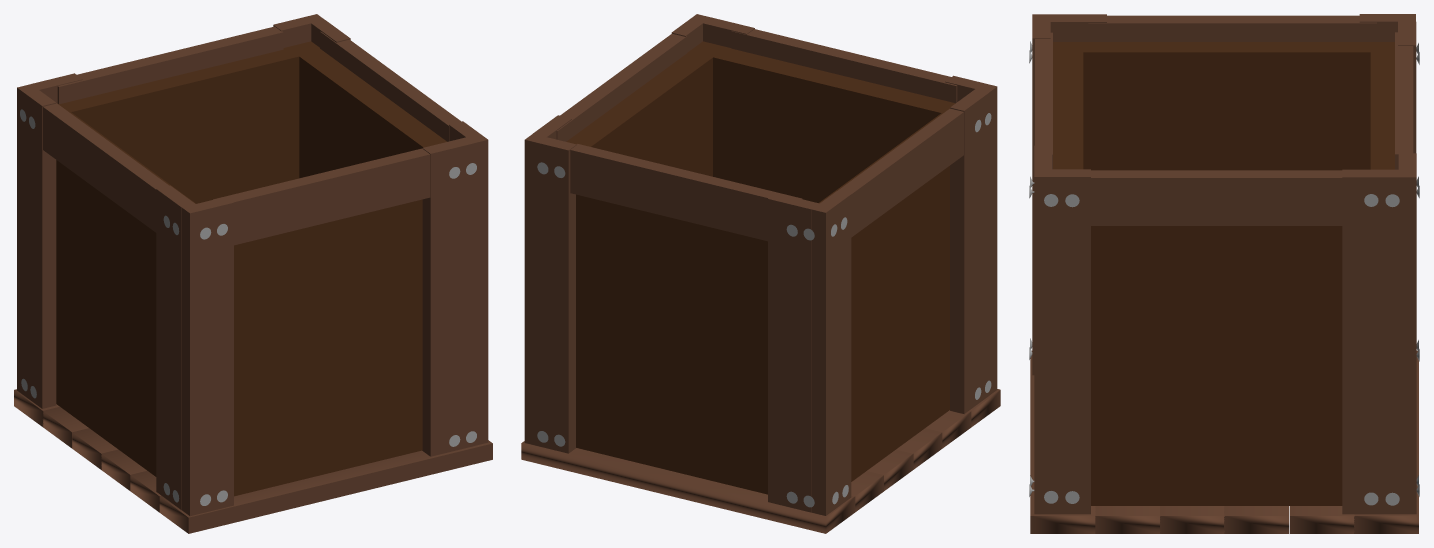
File: Holzkiste.fbx
3 views of the same model, side by side, from view 1: azimuth 30°, elevation 25°; view 2: azimuth 150°, elevation 25°; view 3: azimuth 270°, elevation 25° (orthographic). The views are drawn at different scales.
Visible parts, largest first — view 1: polySurface70; view 2: polySurface70; view 3: polySurface70.
Boxes of the visible parts, <box> form: polySurface70: <box>14,14,492,533</box>; polySurface70: <box>521,14,1000,533</box>; polySurface70: <box>1029,14,1419,533</box>.
Bounding box in the file's own units: 112 × 112 × 112.
